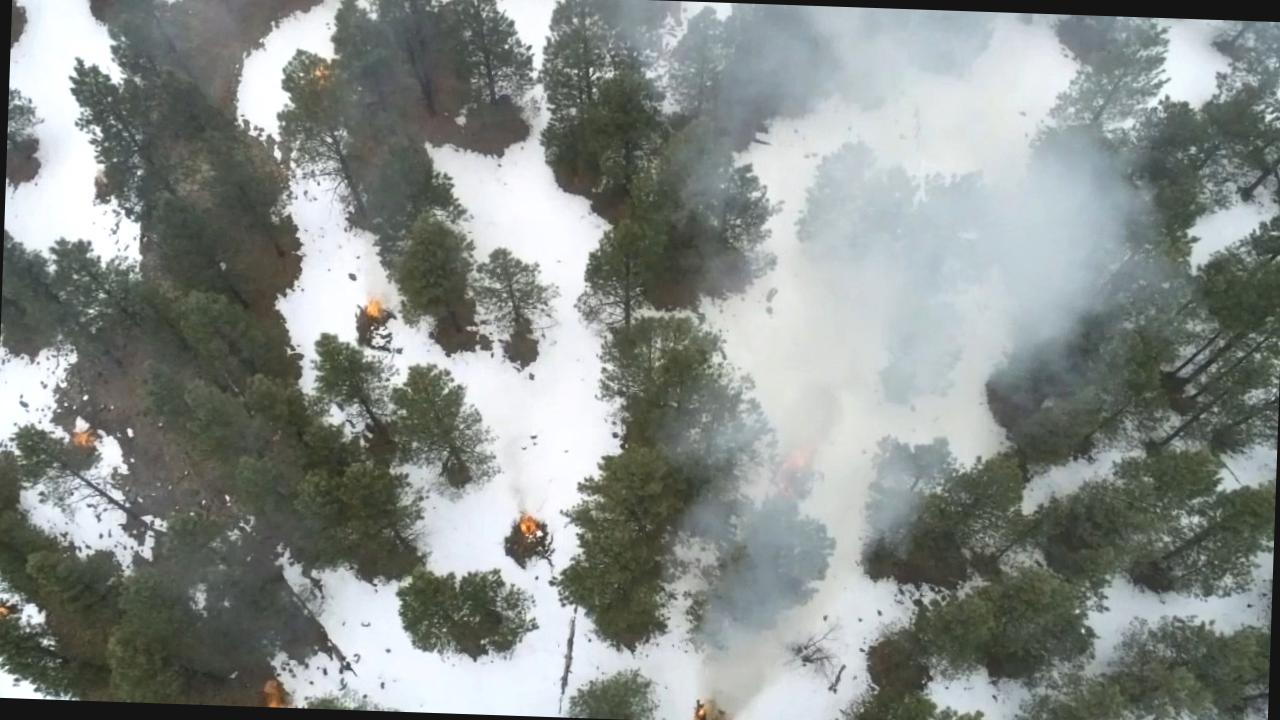fire: (512, 503, 544, 538), (358, 295, 388, 320)
smoke: (590, 0, 1263, 289), (664, 273, 1107, 562)
